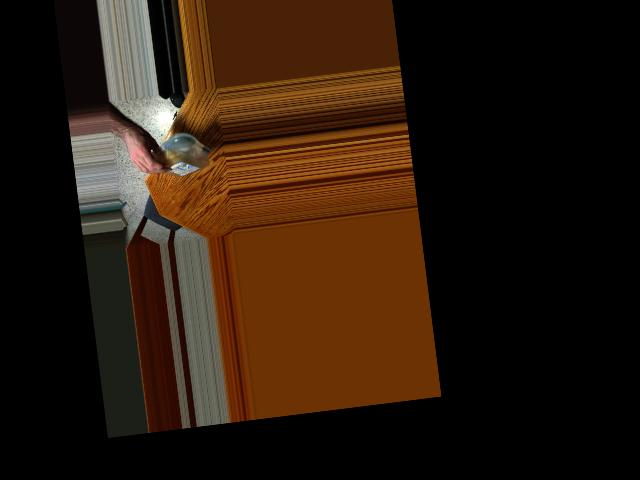cheese: (141, 135, 209, 179)
